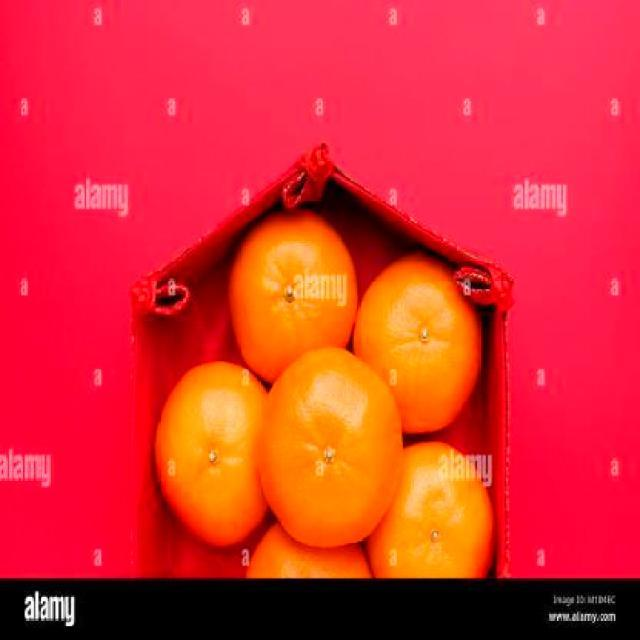Jeruk Sudah Matang: (262, 350, 402, 544), (348, 258, 482, 433), (154, 363, 271, 546), (228, 210, 356, 376), (372, 434, 496, 586), (244, 512, 367, 580)
